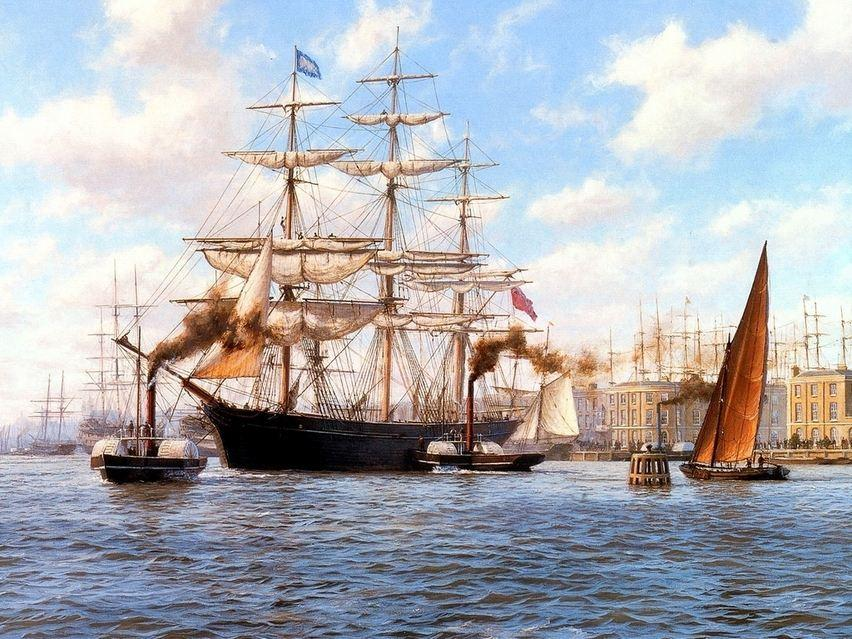fanchuan: (114, 21, 555, 473), (676, 238, 818, 485)
